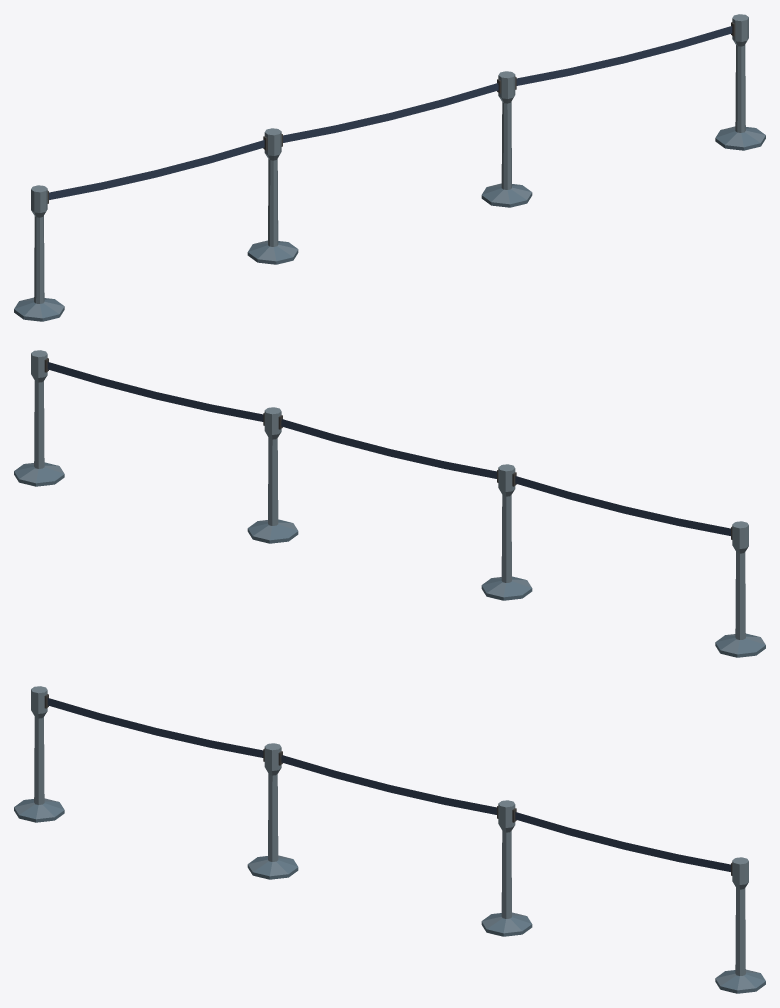
The model's file is queue-barrier-stanchion-run-1836c8.glb.
The picture shows the model from 3 angles, top to bottom: view 1: azimuth 30°, elevation 25°; view 2: azimuth 150°, elevation 25°; view 3: azimuth 330°, elevation 25°; orthographic projection.
Visible parts, largest first — view 1: stanchion-run; view 2: stanchion-run; view 3: stanchion-run.
Part boxes in pixels (box(x1,y1,x2,y2)): stanchion-run: box(14, 14, 765, 321); stanchion-run: box(14, 350, 765, 657); stanchion-run: box(14, 686, 765, 993).
Bounding box in the file's own units: 6.35 × 1 × 0.35.
